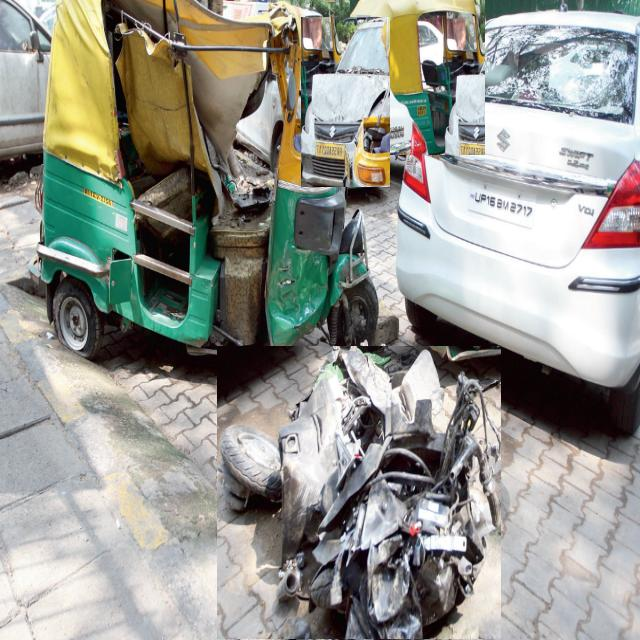accident: (38, 0, 378, 360), (218, 346, 501, 639)
autorickshaw: (350, 0, 485, 155)
car: (396, 11, 640, 433), (301, 18, 390, 187), (0, 0, 51, 164), (236, 82, 282, 169)
